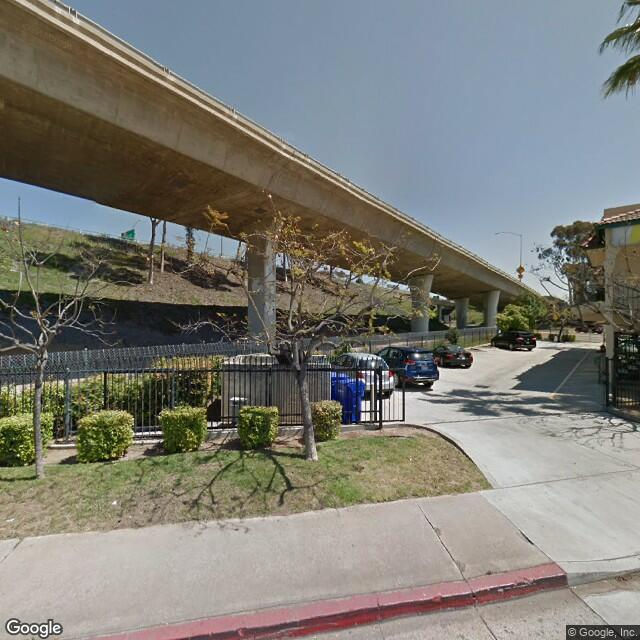litter: (108, 498, 123, 506)
